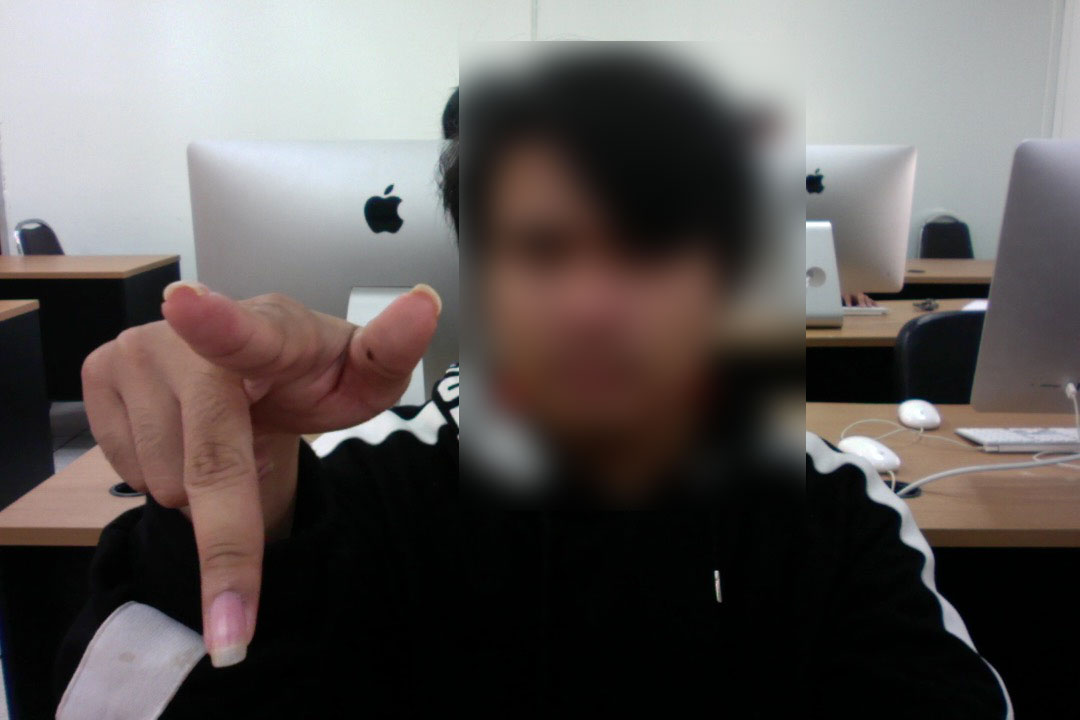por: (68, 274, 450, 676)
